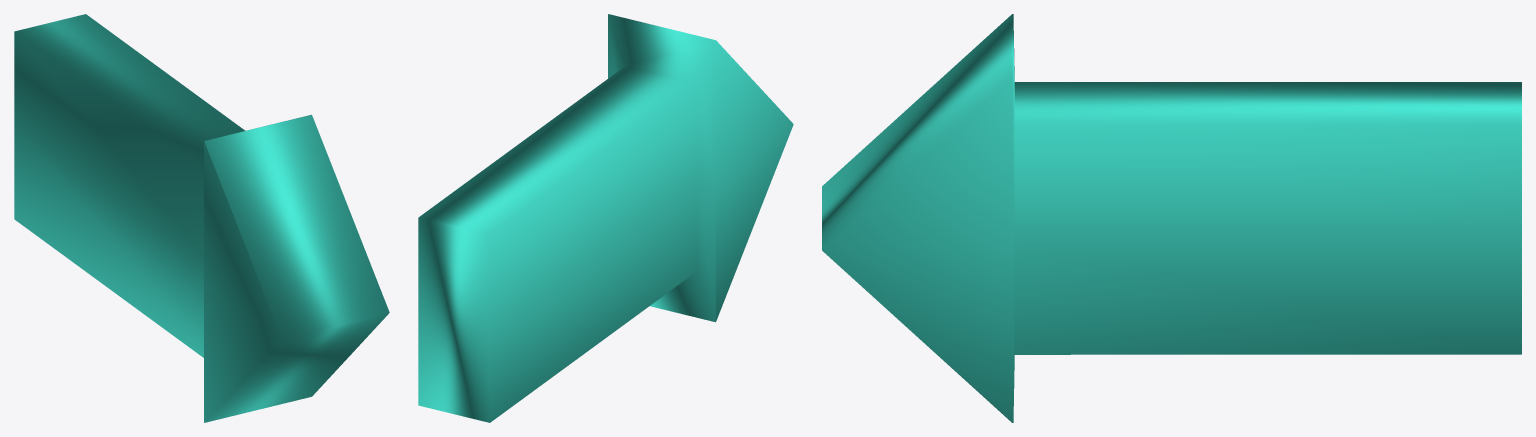
File: arrow.fbx
3 renders of one model, left to right at view 1: azimuth 30°, elevation 25°; view 2: azimuth 150°, elevation 25°; view 3: azimuth 270°, elevation 25°, orthographic. The views are drawn at different scales.
Visible parts, largest first — view 1: Arrow; view 2: Arrow; view 3: Arrow.
Part boxes in pixels (x1=…): Arrow: x1=14, y1=14, x2=389, y2=422; Arrow: x1=418, y1=14, x2=793, y2=422; Arrow: x1=822, y1=14, x2=1521, y2=422.
Size of the model in its own units: 27.33 by 68.32 by 126.
